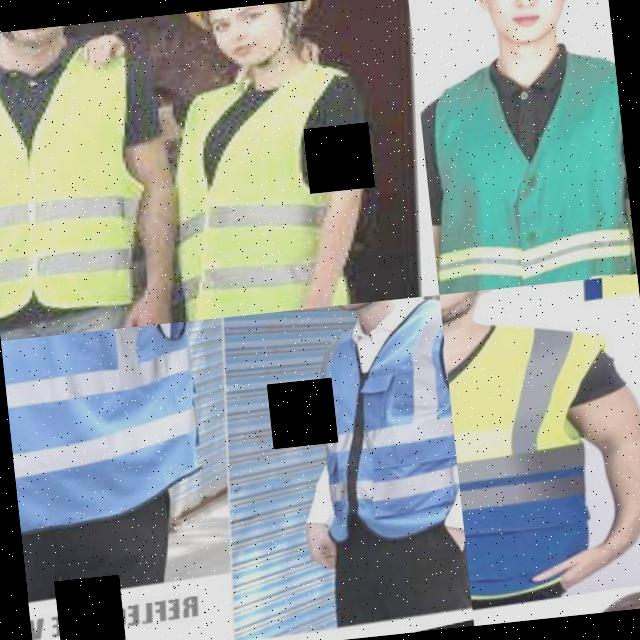vest: (416, 56, 637, 294), (443, 316, 606, 626), (0, 30, 158, 340), (156, 70, 348, 322), (1, 320, 210, 540), (302, 304, 466, 568)
